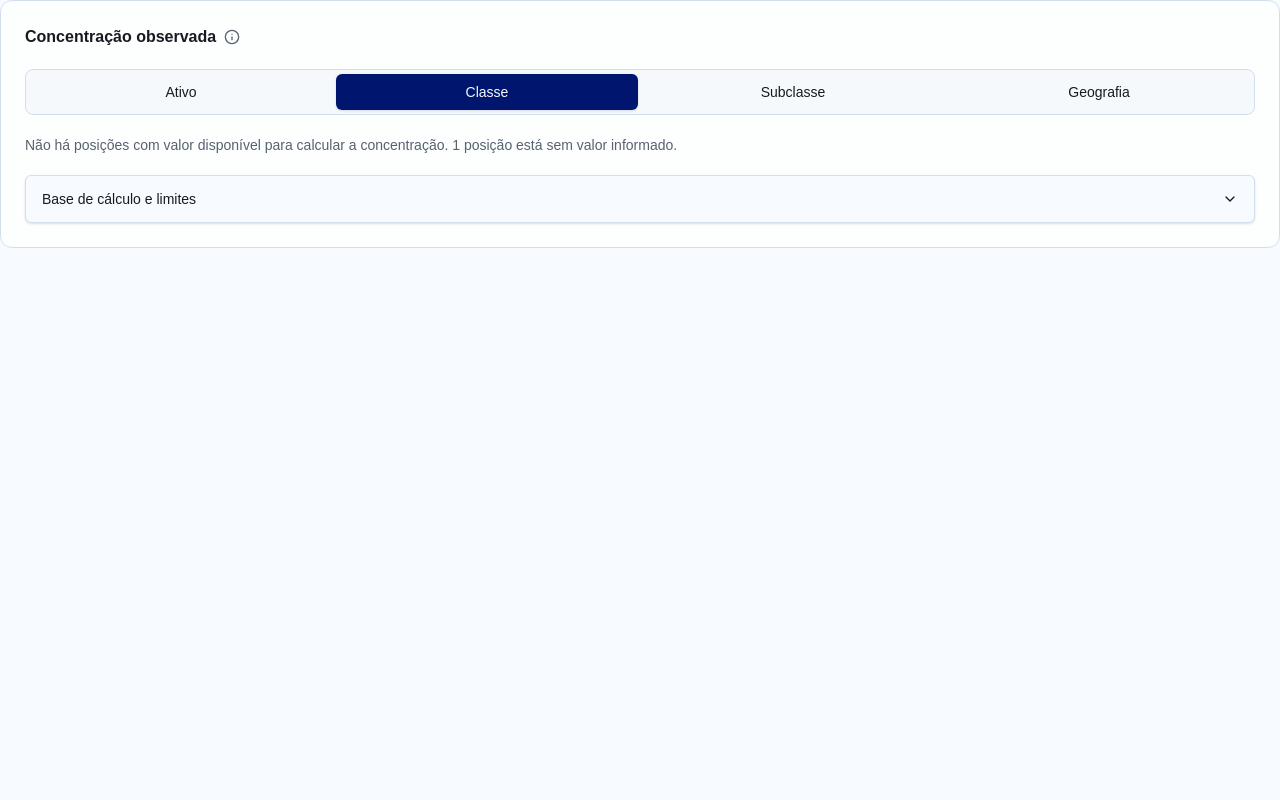
Test: PortfolioConcentrationAnalysis › keeps the missing-value state visible without showing a fabricated percentage
Expected: the message shows "posi", x1=25 y1=137 x2=448 y2=153
Click the button "Base de cálculo e limites" at coordinates (119, 199), box x1=25 y1=175 x2=1255 y2=223
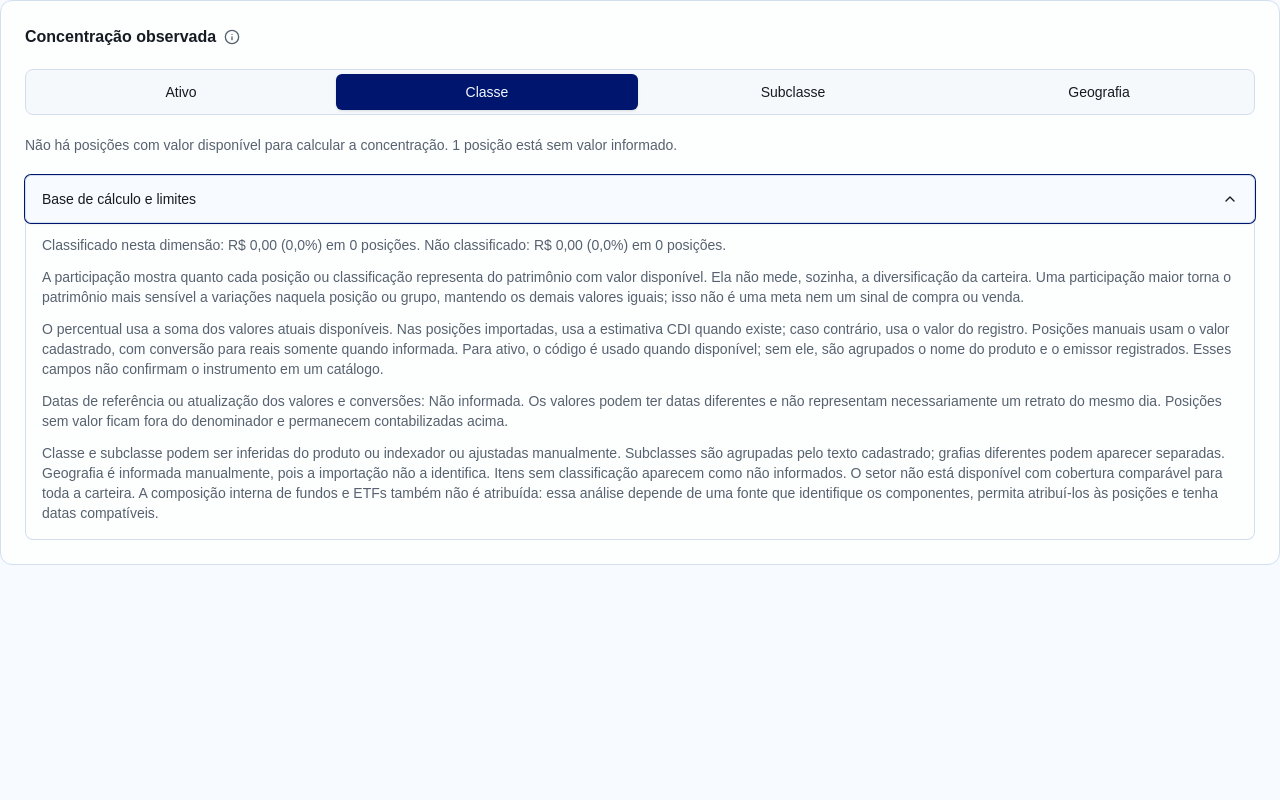
Result: the text "Não informada" is shown at x1=429 y1=393 x2=521 y2=409
